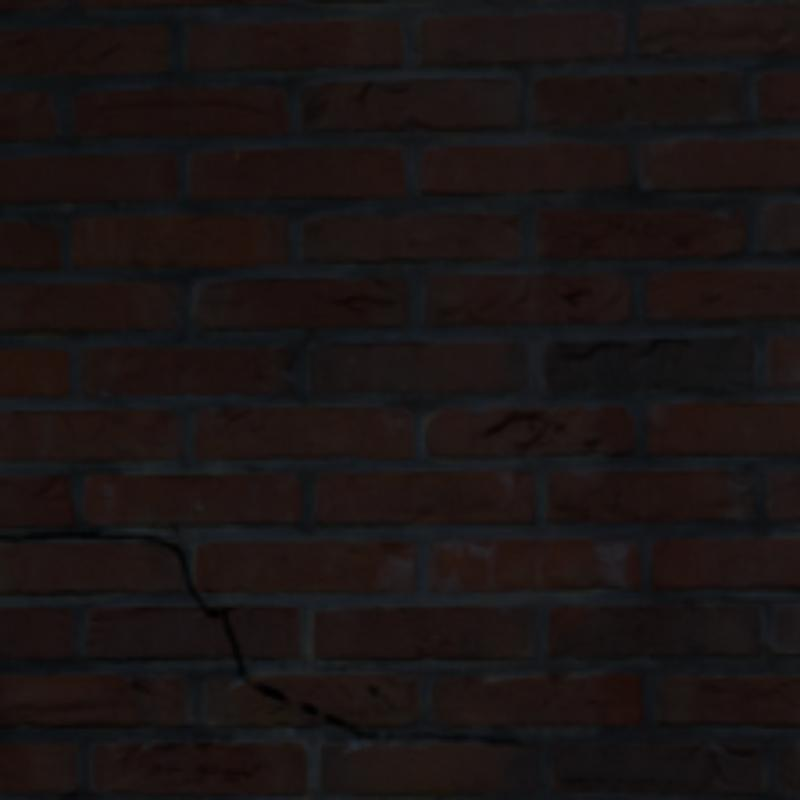crack: (240, 669, 364, 736), (187, 576, 235, 653), (150, 536, 182, 566), (480, 737, 532, 746), (364, 732, 470, 736)
